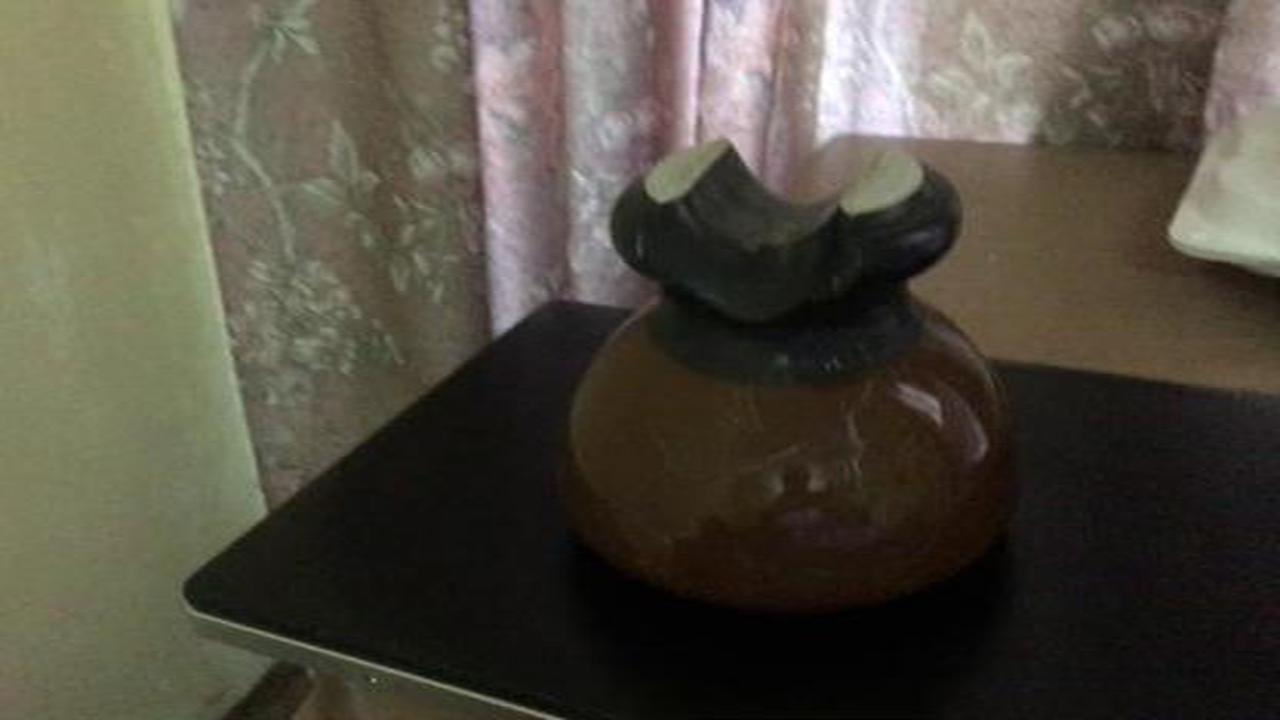insulator_pin: (530, 122, 1041, 631)
